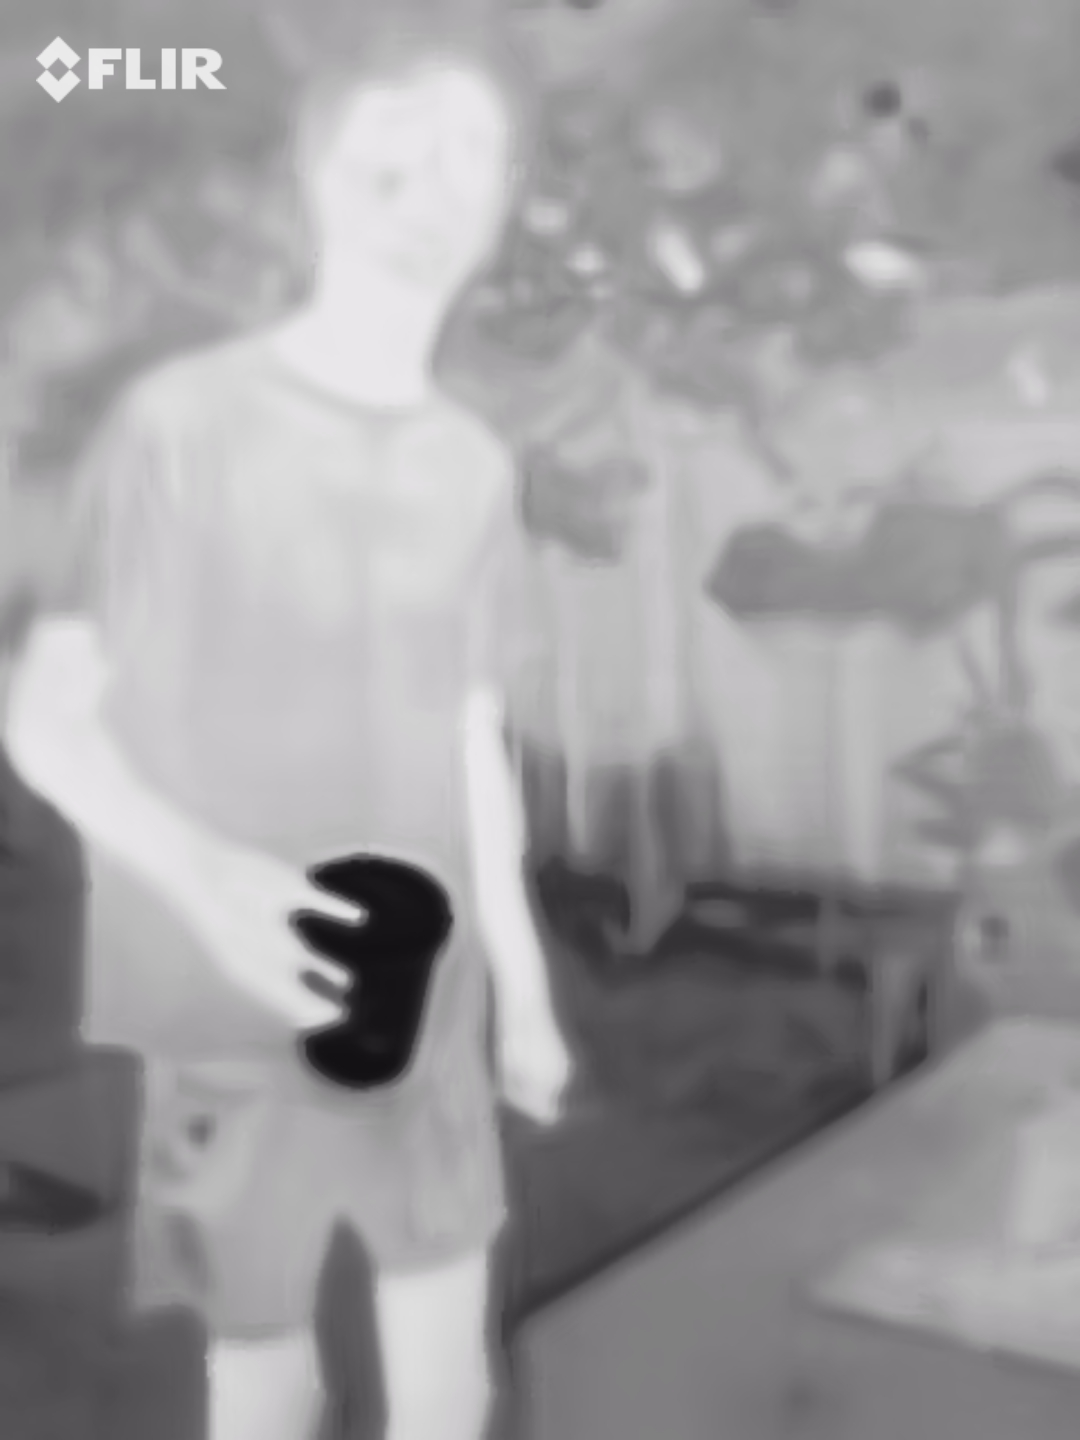head: (292, 28, 519, 295)
